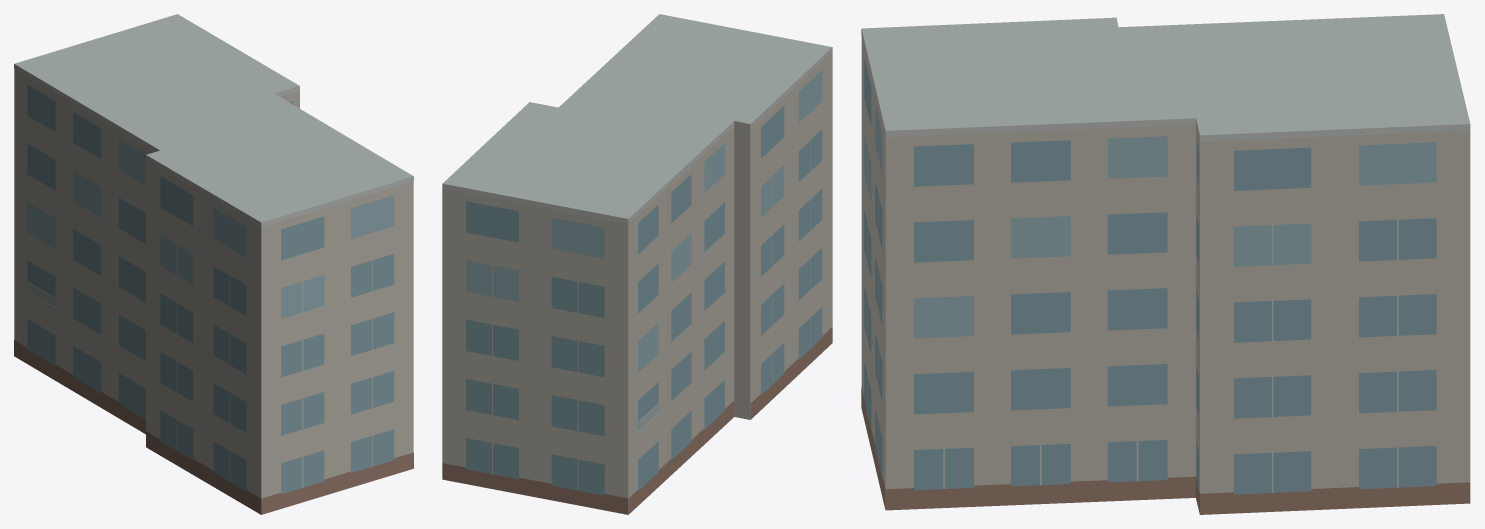
Rendered from survey-upis-32659741.glb.
3 views of the same model, side by side, from view 1: azimuth 30°, elevation 25°; view 2: azimuth 150°, elevation 25°; view 3: azimuth 270°, elevation 25° (orthographic). The views are drawn at different scales.
Parts seen in each view (by area): view 1: survey-upis-32659741.tmp; view 2: survey-upis-32659741.tmp; view 3: survey-upis-32659741.tmp.
Boxes of the visible parts, box(x1,y1,x2,y2) form: survey-upis-32659741.tmp: box(14, 14, 413, 514); survey-upis-32659741.tmp: box(442, 14, 832, 514); survey-upis-32659741.tmp: box(861, 14, 1470, 514).
Bounding box in the file's own units: 9.89 × 14.4 × 20.95.
